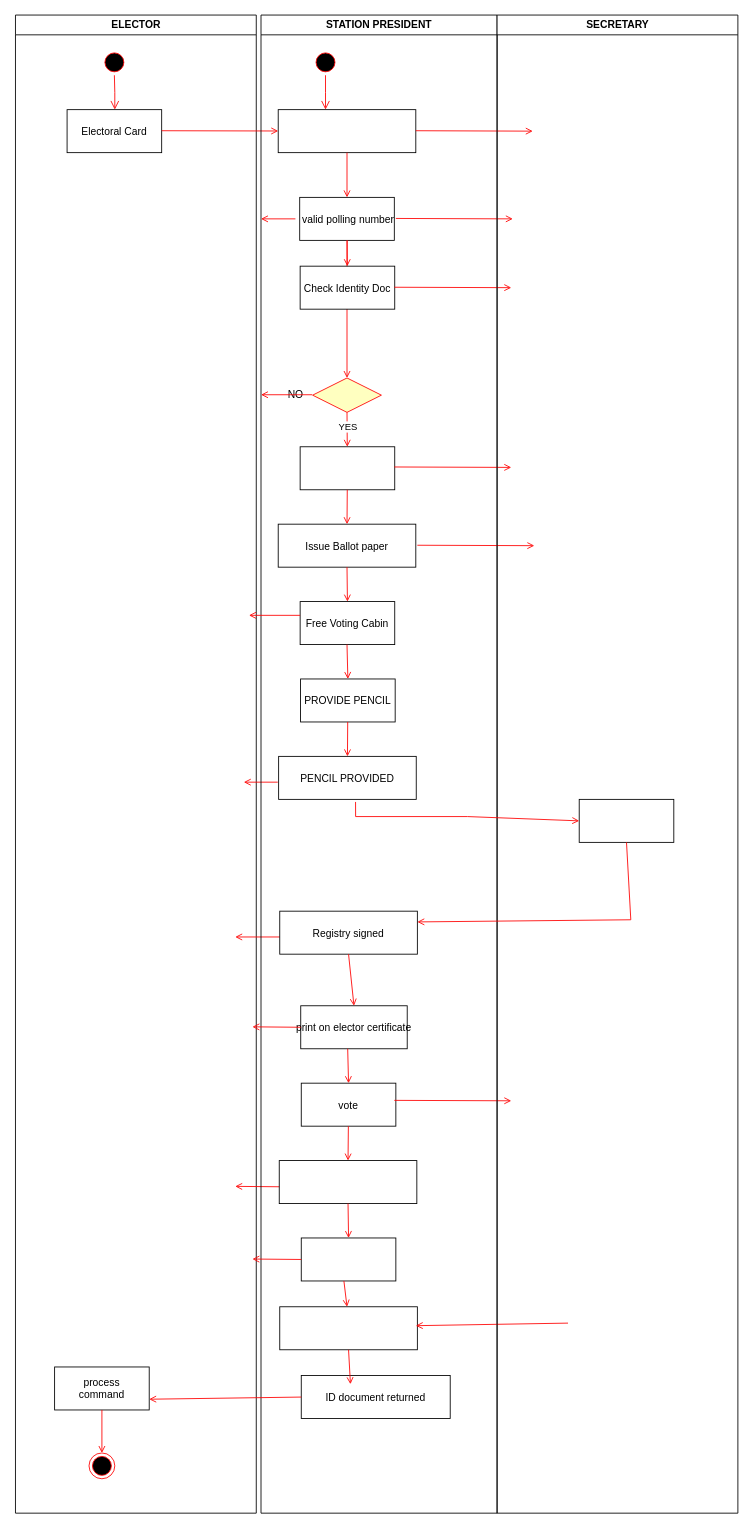
The diagram is 753 pixels wide and 1528 high, and some of its shapes have lost their labels. The shapes that lost their labels are listed below. From the top down, each one's centre as x and y in pixels, then its label:
(x=346, y=131): Check Polling Number
(x=346, y=394): VALID
(x=347, y=468): Identity Doc. Valid
(x=626, y=820): Sign registry
(x=347, y=1182): insert Ballot
(x=348, y=1259): return pencil
(x=348, y=1328): Return ID document
